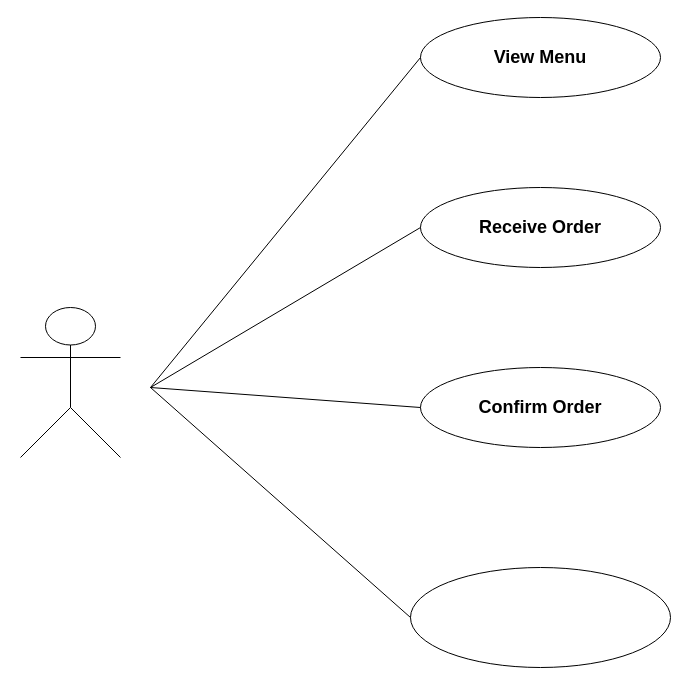
Some shapes in this 688 by 685 pixel diagram are drawn without their labels. Each missing label, with the centre of its shape:
"Send Notification for Ready Order" goes at pixel 540 617.
"Travel Agent" goes at pixel 70 382.
